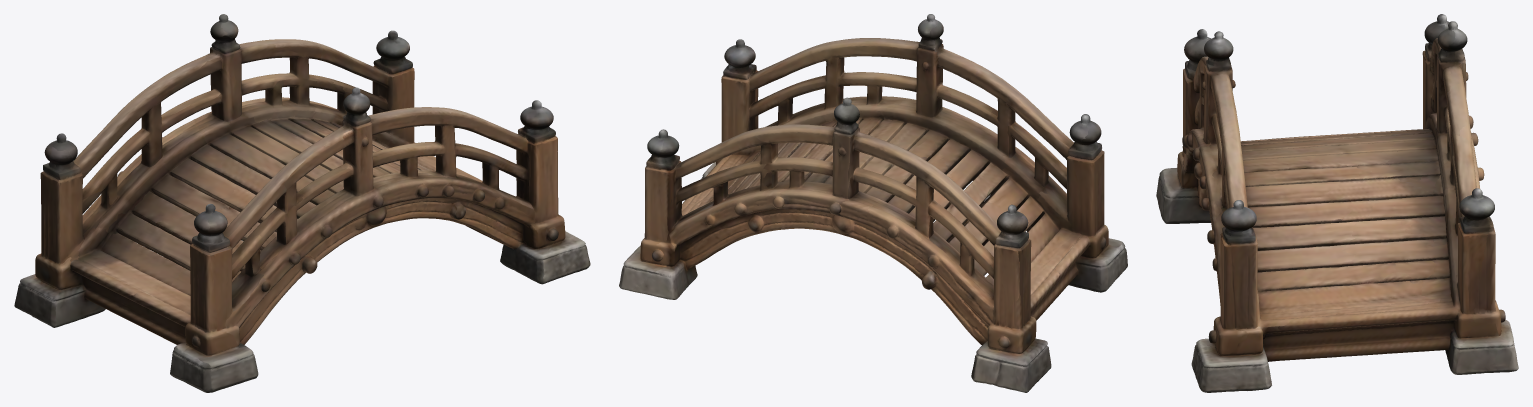
Rendered from wooden-bridge-refined-v1.glb.
3 views of the same model, side by side, from view 1: azimuth 30°, elevation 25°; view 2: azimuth 150°, elevation 25°; view 3: azimuth 270°, elevation 25° (orthographic). The views are drawn at different scales.
Visible parts, largest first — view 1: WB_Wooden_Bridge_Refined; view 2: WB_Wooden_Bridge_Refined; view 3: WB_Wooden_Bridge_Refined.
Boxes of the visible parts, left/top/right/bottom form: WB_Wooden_Bridge_Refined: left=14, top=14, right=590, bottom=392; WB_Wooden_Bridge_Refined: left=619, top=14, right=1127, bottom=392; WB_Wooden_Bridge_Refined: left=1156, top=14, right=1518, bottom=392.
Bounding box in the file's own units: 3.2 × 1.73 × 2.1.
Materials: 3 (3 with a texture image).
